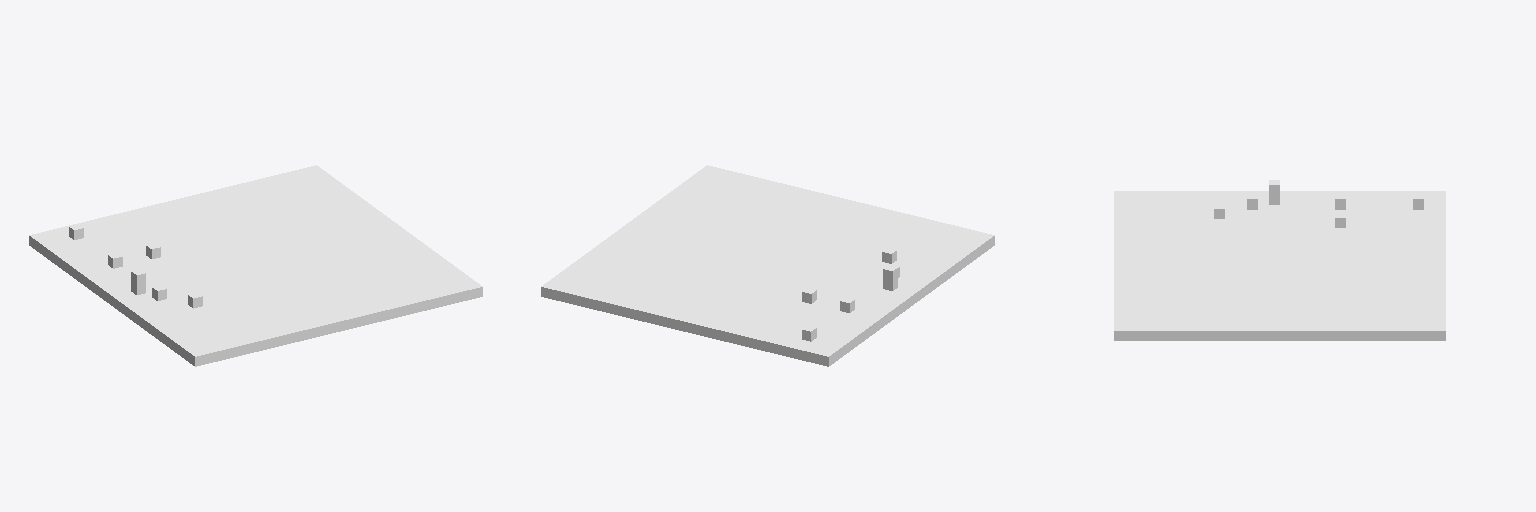
The model's file is lava_shore.obj.
The picture shows the model from 3 angles: view 1: azimuth 30°, elevation 25°; view 2: azimuth 150°, elevation 25°; view 3: azimuth 270°, elevation 25°; orthographic projection.
Bounding box in the file's own units: 30 × 3 × 30.